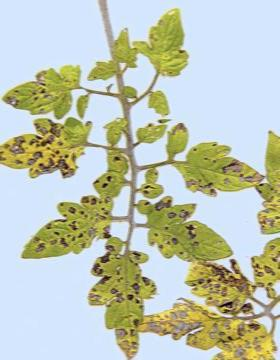Tomato Septoria leaf spot: (125, 288, 280, 360), (155, 121, 271, 216), (137, 187, 237, 283), (82, 232, 156, 360), (12, 189, 118, 260), (0, 115, 96, 181), (0, 56, 86, 121), (181, 261, 266, 325), (131, 9, 196, 90)
